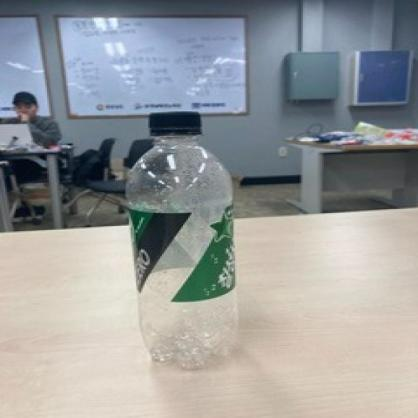bottle: (123, 107, 240, 374)
cap: (143, 106, 209, 138)
label: (122, 203, 243, 301)
